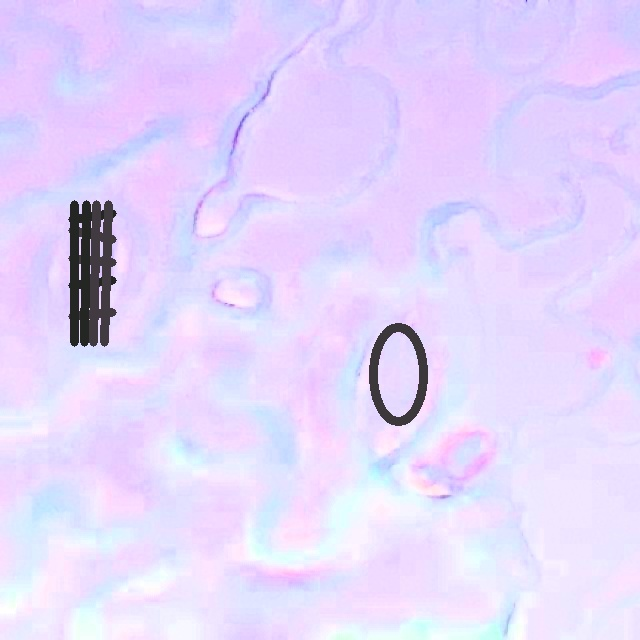close: (68, 200, 116, 346), (368, 322, 429, 425)
